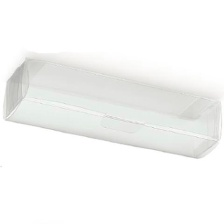plastic_box: (0, 48, 224, 164)
